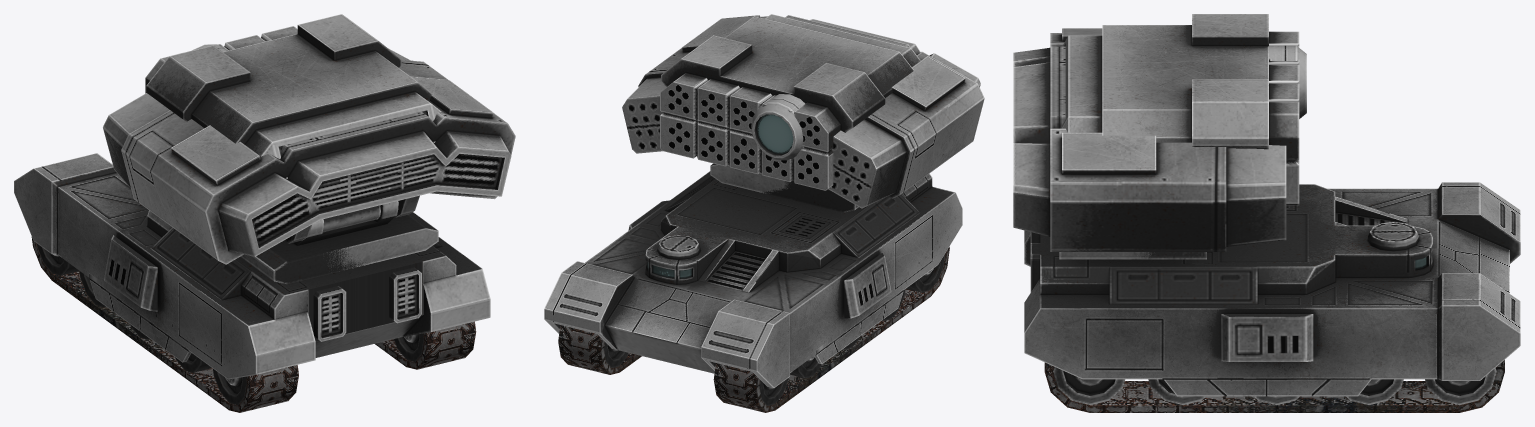
Rendered from LRMCarrier.FBX.
3 views of the same model, side by side, from view 1: azimuth 30°, elevation 25°; view 2: azimuth 150°, elevation 25°; view 3: azimuth 270°, elevation 25° (orthographic). The views are drawn at different scales.
Visible parts, largest first — view 1: body, launcher_lrm, launcher_srm, trackr, turret_lrm, turret_srm, trackl, wheel10, wheel5, wheel6; view 2: body, launcher_srm, launcher_lrm, trackr, trackl, turret_lrm, turret_srm, wheel10, wheel6; view 3: body, launcher_lrm, launcher_srm, trackl, wheel5, wheel1, wheel2, turret_srm, wheel4, turret_lrm.
Boxes of the visible parts, x1=… form: body: x1=14, y1=153, x2=490, y2=379; launcher_lrm: x1=103, y1=44, x2=515, y2=264; launcher_srm: x1=145, y1=14, x2=441, y2=178; trackr: x1=31, y1=237, x2=298, y2=412; turret_lrm: x1=240, y1=201, x2=438, y2=280; turret_srm: x1=269, y1=212, x2=437, y2=284; trackl: x1=375, y1=321, x2=476, y2=369; wheel10: x1=213, y1=369, x2=246, y2=404; wheel5: x1=393, y1=333, x2=423, y2=361; wheel6: x1=36, y1=243, x2=78, y2=275; body: x1=544, y1=171, x2=962, y2=387; launcher_srm: x1=660, y1=14, x2=920, y2=190; launcher_lrm: x1=622, y1=15, x2=984, y2=208; trackr: x1=713, y1=247, x2=949, y2=412; trackl: x1=558, y1=325, x2=641, y2=374; turret_lrm: x1=711, y1=163, x2=854, y2=212; turret_srm: x1=710, y1=164, x2=858, y2=209; wheel10: x1=906, y1=253, x2=945, y2=292; wheel6: x1=759, y1=378, x2=788, y2=405; body: x1=1024, y1=182, x2=1520, y2=396; launcher_lrm: x1=1013, y1=28, x2=1306, y2=251; launcher_srm: x1=1060, y1=14, x2=1299, y2=205; trackl: x1=1044, y1=360, x2=1504, y2=412; wheel5: x1=1053, y1=367, x2=1125, y2=405; wheel1: x1=1425, y1=368, x2=1496, y2=405; wheel2: x1=1346, y1=379, x2=1403, y2=404; turret_srm: x1=1059, y1=252, x2=1154, y2=259; wheel4: x1=1148, y1=379, x2=1205, y2=405; turret_lrm: x1=1139, y1=252, x2=1206, y2=259.
Size of the model in its own units: 29.62 by 26 by 40.18.
Materials: 1 (1 with a texture image).
